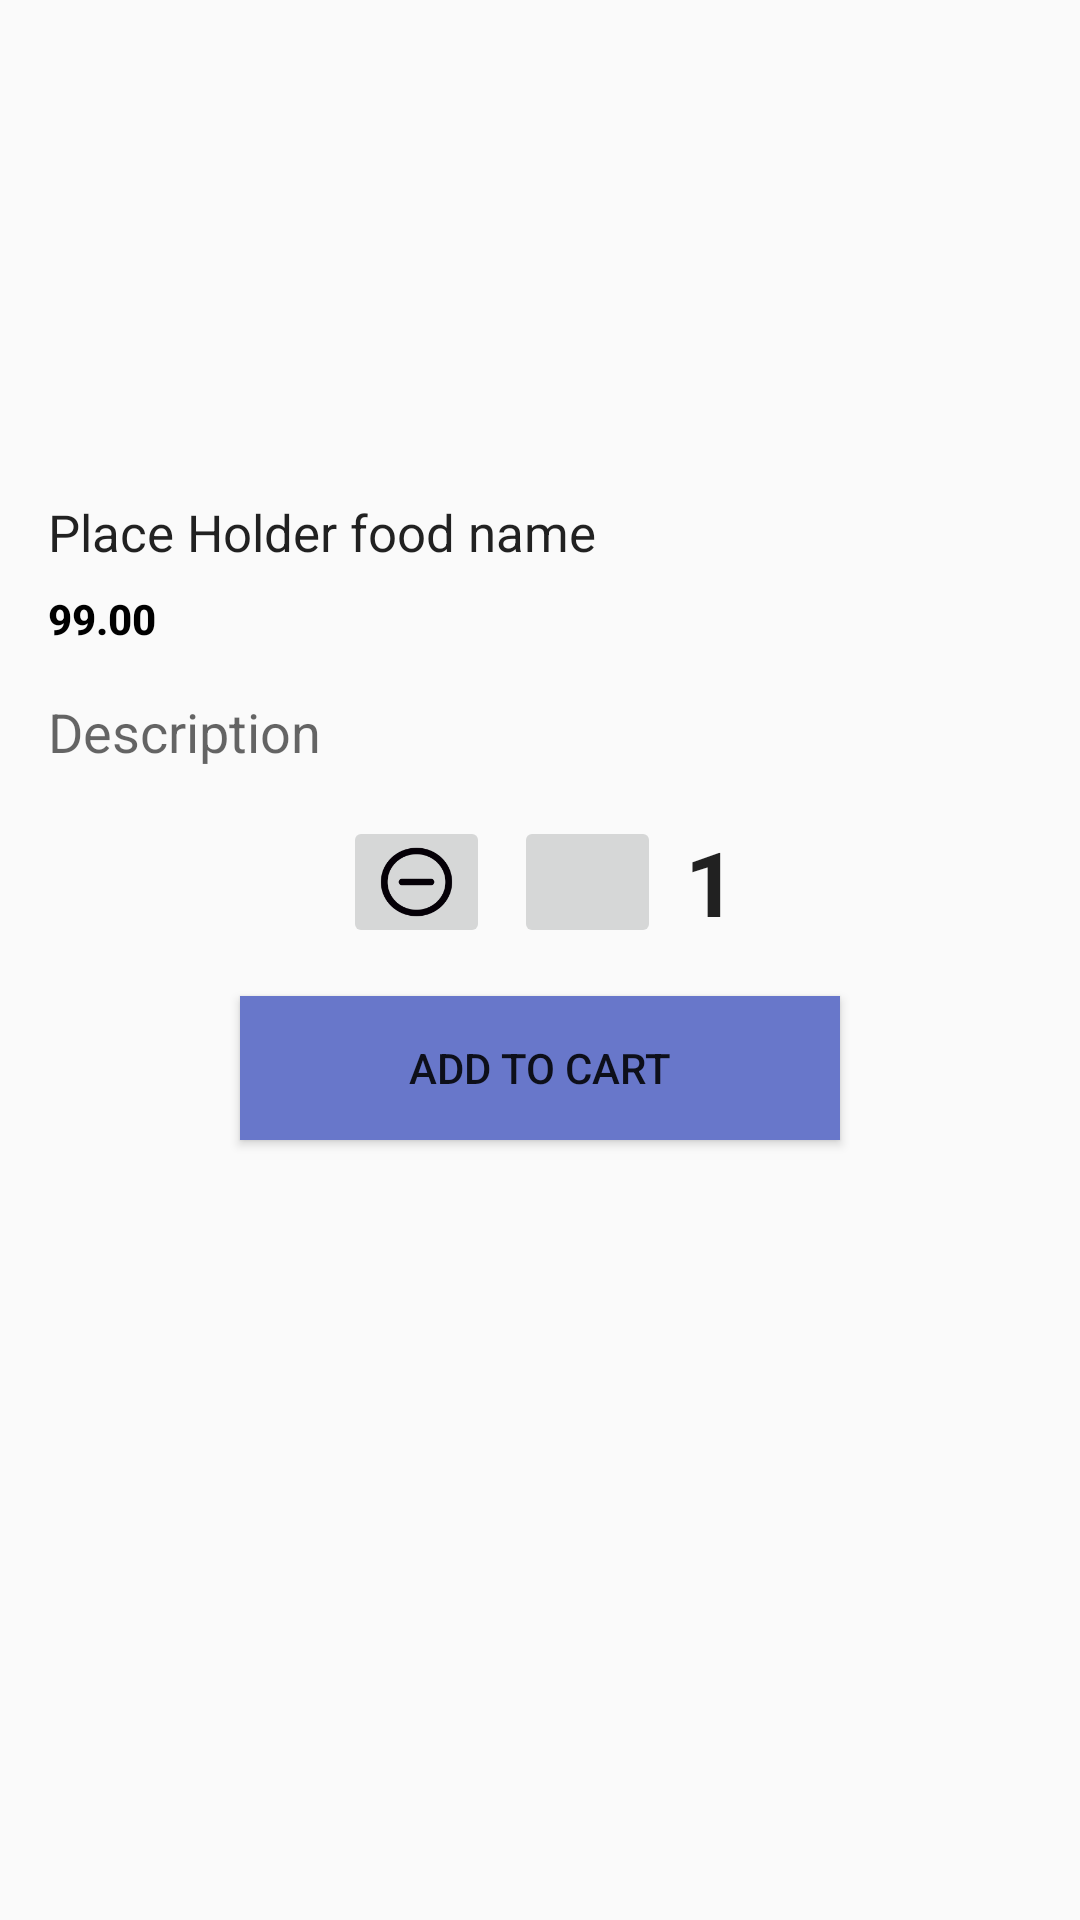

Locate icon controls on the screen. Image size 1080x1920, boxes as (x1, y1, x2, y2).
minus sign: (355, 834, 478, 930)
